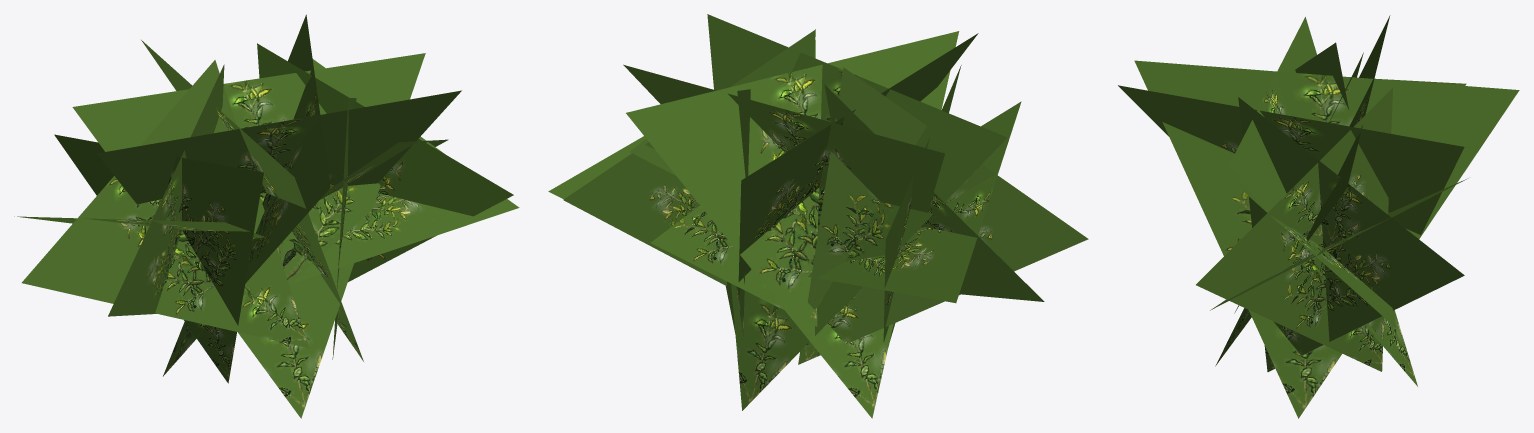
File: bush_tempe_la_b_2.glb
The picture shows the model from 3 angles, left to right: view 1: azimuth 30°, elevation 25°; view 2: azimuth 150°, elevation 25°; view 3: azimuth 270°, elevation 25°; orthographic projection. The views are drawn at different scales.
Visible parts, largest first — view 1: bush_tempe_la_b_2; view 2: bush_tempe_la_b_2; view 3: bush_tempe_la_b_2.
Part boxes in pixels (left/top/right/bottom): bush_tempe_la_b_2: left=14, top=14, right=519, bottom=418; bush_tempe_la_b_2: left=548, top=14, right=1088, bottom=418; bush_tempe_la_b_2: left=1118, top=15, right=1519, bottom=418.
Bounding box in the file's own units: 15.26 × 10.14 × 11.66.
1 material, 1 textured.
